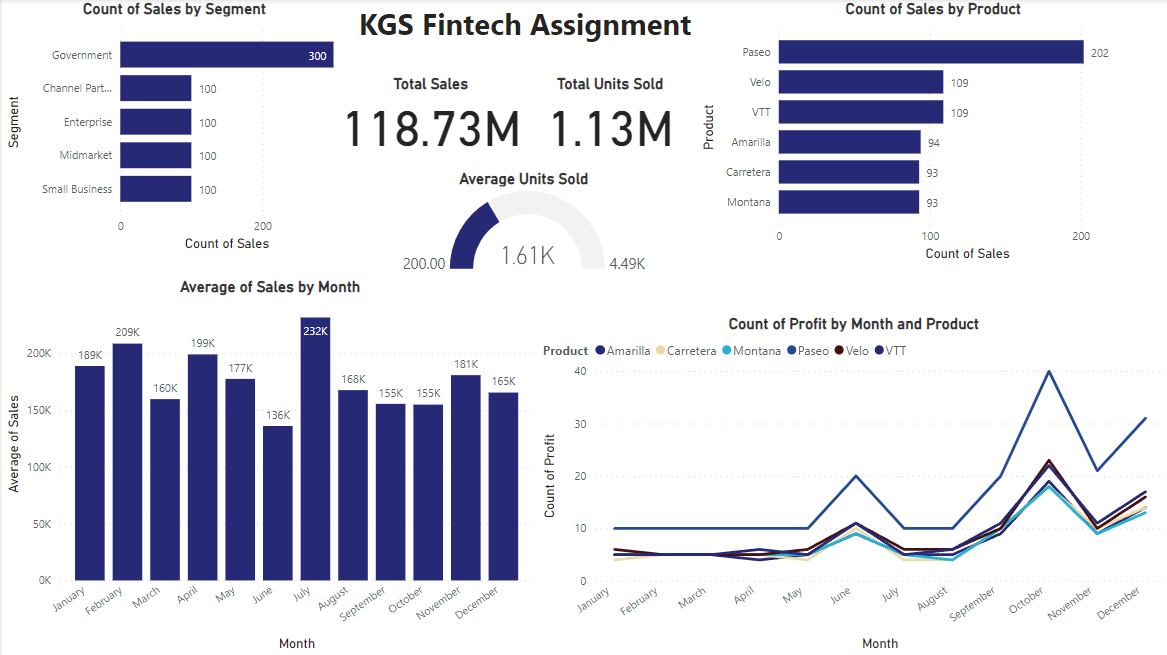

What the dashboard file says about the page in this screenshot:
{"tool":"powerbi","page":{"name":"Page 1","canvas":[1280,720],"ordinal":0},"visuals":[{"type":"barChart","fields":{"Category":["Sheet1.Segment"],"Y":["CountNonNull(Sheet1. Sales)"]},"box":[0,0,378.4,281.1],"z":0},{"type":"barChart","fields":{"Category":["Sheet1.Product"],"Y":["CountNonNull(Sheet1. Sales)"]},"box":[762.3,0,518.3,292],"z":1000},{"type":"lineChart","fields":{"Category":["Sheet1.Date.Variation.Date Hierarchy.Month"],"Y":["CountNonNull(Sheet1.Profit)"],"Series":["Sheet1.Product"]},"box":[588.2,345.5,692.4,374.3],"z":2000},{"type":"columnChart","fields":{"Y":["Avg(Sheet1. Sales)"],"Category":["Sheet1.Date.Variation.Date Hierarchy.Month"]},"box":[0,305.7,588.2,414.1],"z":3000},{"type":"textbox","box":[360.6,0,426.4,108.3],"z":4000},{"type":"card","title":"Total Sales","fields":{"Values":["Sum(Sheet1. Sales)"]},"box":[352.4,82.3,235.8,86.4],"z":5000},{"type":"card","title":"Total Units Sold","fields":{"Values":["Sum(Sheet1.Units Sold)"]},"box":[571.7,82.3,190.6,86.4],"z":6000},{"type":"gauge","title":"Average Units Sold","fields":{"Y":["Avg(Sheet1.Units Sold)"],"MinValue":["Min(Sheet1.Units Sold)"],"MaxValue":["Max(Sheet1.Units Sold)"]},"box":[422.3,186.5,300.3,119.3],"z":7000}]}

Visuals, with their boxes in screenshot pixels (x1, y1, x2, y2), scaled from the page's 1280x720 canvas onto the 1167x655 screenshot:
barChart - Sheet1.Segment x CountNonNull(Sheet1. Sales): Rect(0, 0, 345, 256)
barChart - Sheet1.Product x CountNonNull(Sheet1. Sales): Rect(695, 0, 1166, 266)
lineChart - Sheet1.Date.Variation.Date Hierarchy.Month x CountNonNull(Sheet1.Profit): Rect(536, 314, 1166, 654)
columnChart - Avg(Sheet1. Sales) x Sheet1.Date.Variation.Date Hierarchy.Month: Rect(0, 278, 536, 654)
textbox: Rect(329, 0, 718, 99)
"Total Sales" card: Rect(321, 75, 536, 153)
"Total Units Sold" card: Rect(521, 75, 695, 153)
"Average Units Sold" gauge: Rect(385, 170, 659, 278)
